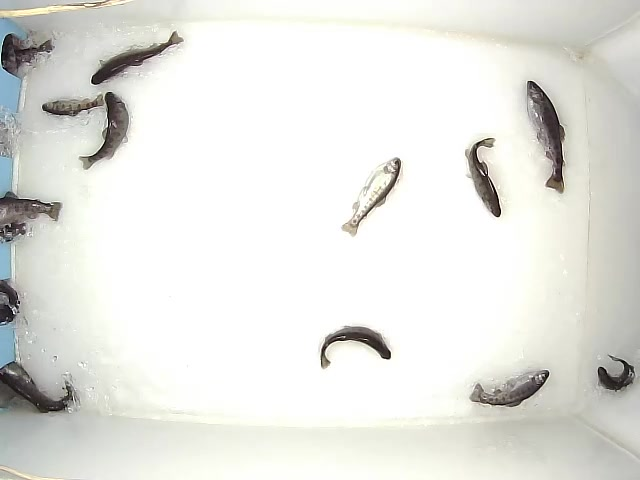fish: (90, 30, 184, 85), (341, 156, 402, 238), (525, 80, 567, 196), (1, 361, 82, 416), (77, 91, 131, 171), (319, 324, 392, 370), (468, 369, 551, 409), (464, 137, 503, 220), (595, 353, 637, 393), (41, 94, 104, 118)
